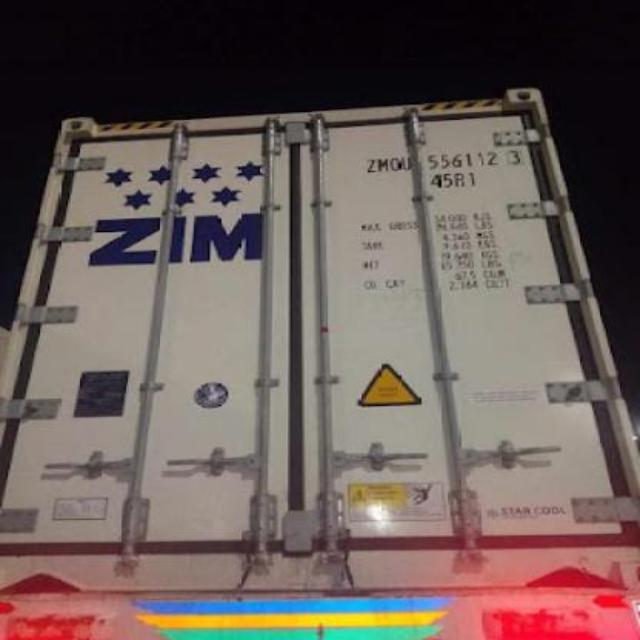1: (474, 152, 486, 166), (464, 152, 474, 168)
2: (486, 150, 498, 166)
3: (508, 150, 524, 168)
5: (424, 154, 438, 168), (440, 156, 452, 168)
6: (452, 152, 464, 168)
M: (376, 157, 389, 173)
O: (391, 156, 404, 174)
U: (398, 154, 412, 170)
Z: (364, 156, 378, 174)
